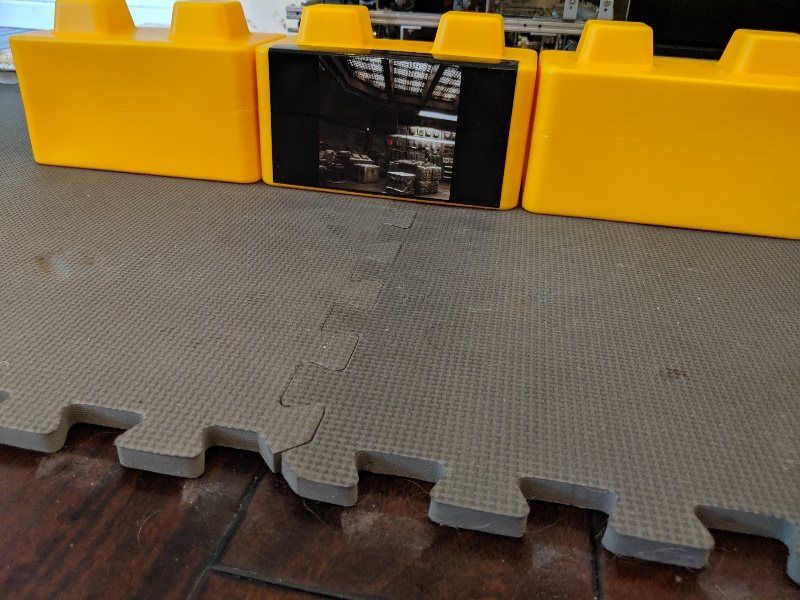Skystone: (256, 34, 527, 217)
ftc_base: (258, 32, 523, 219)
